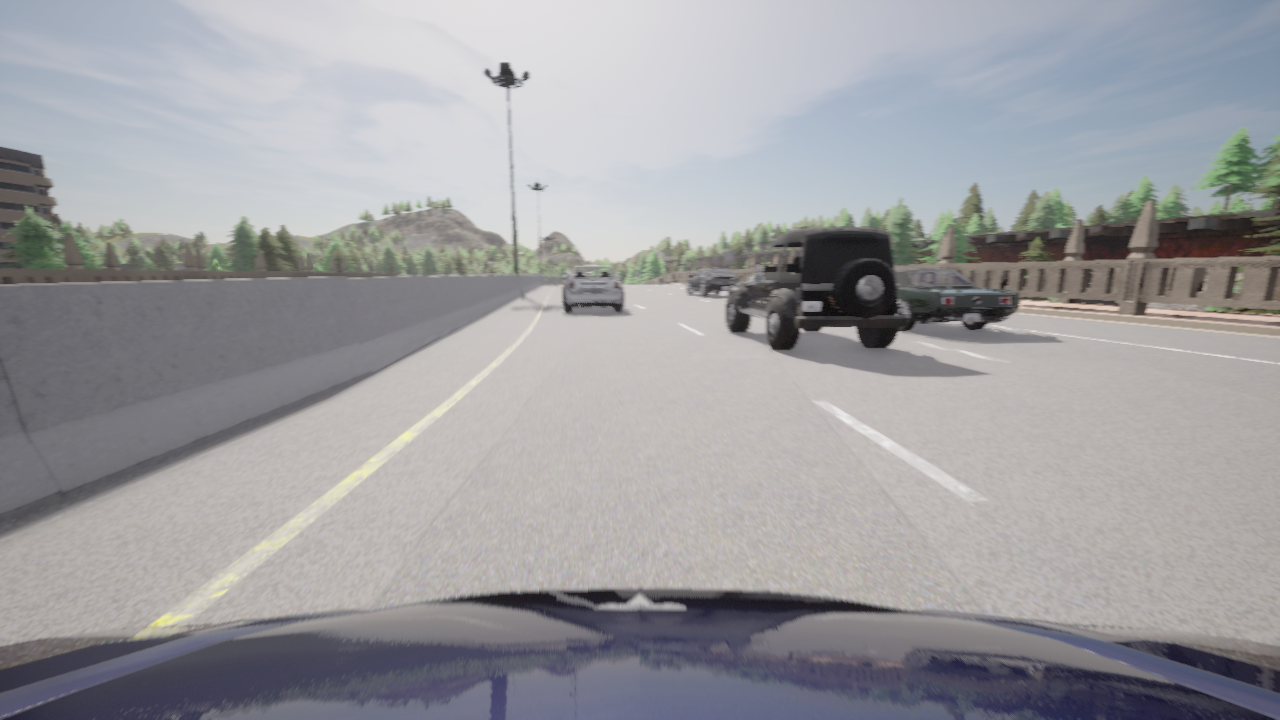cyclist: (0, 588, 1279, 719), (726, 227, 907, 350), (895, 269, 1019, 330), (561, 265, 623, 312), (687, 267, 738, 296), (564, 269, 572, 282)
